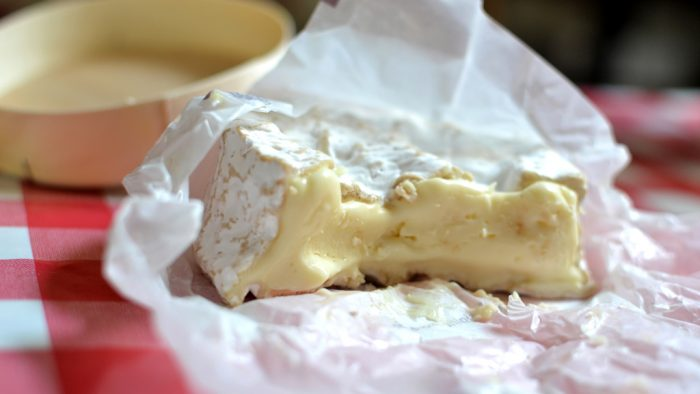camembert: (192, 101, 599, 309)
